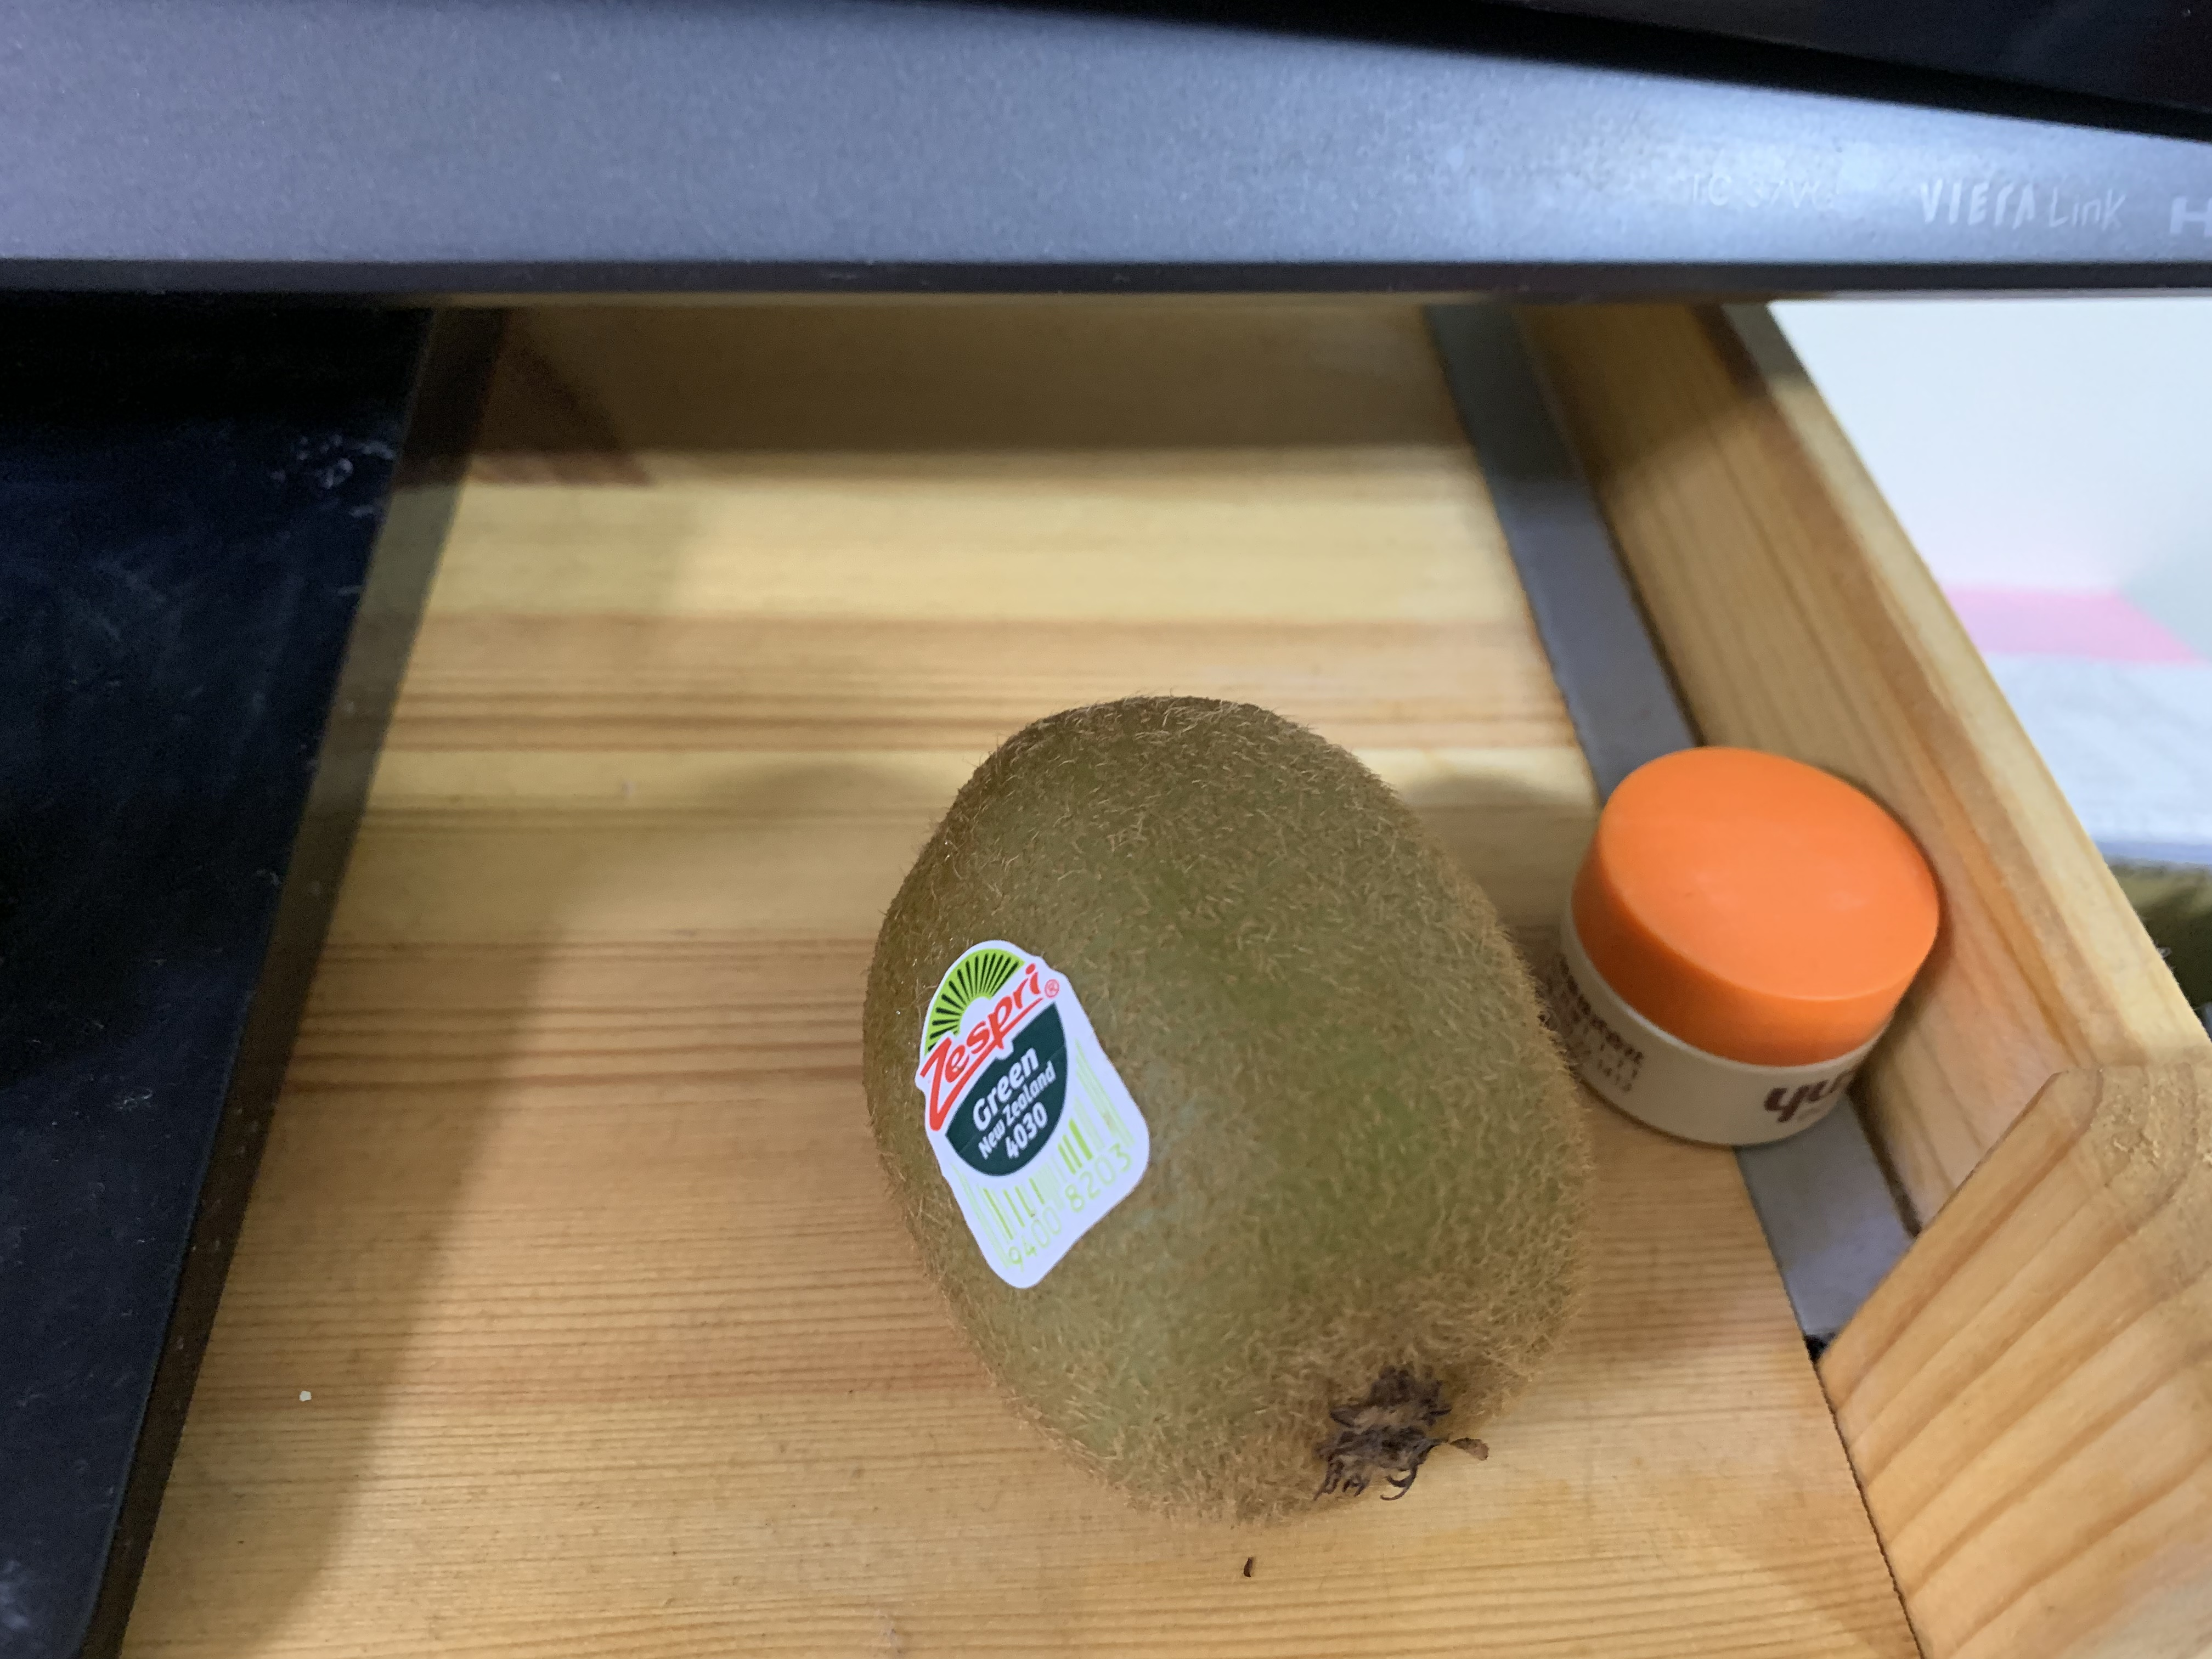kiwi: (862, 695, 1594, 1525)
